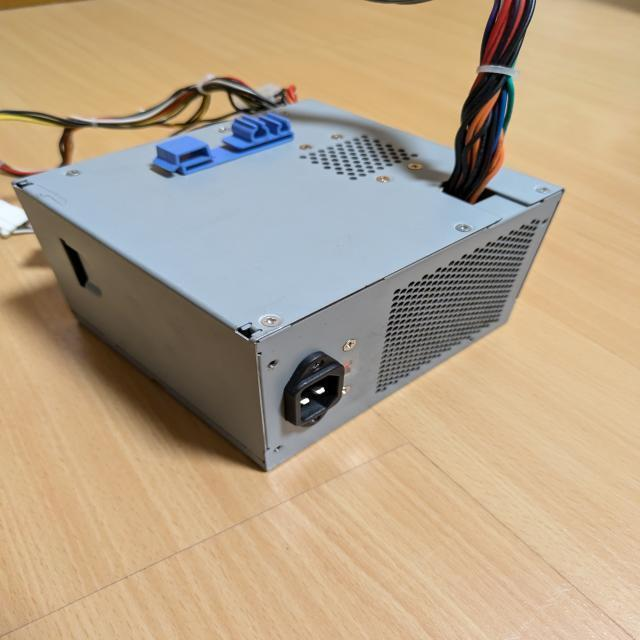PSU: (12, 98, 564, 472)
